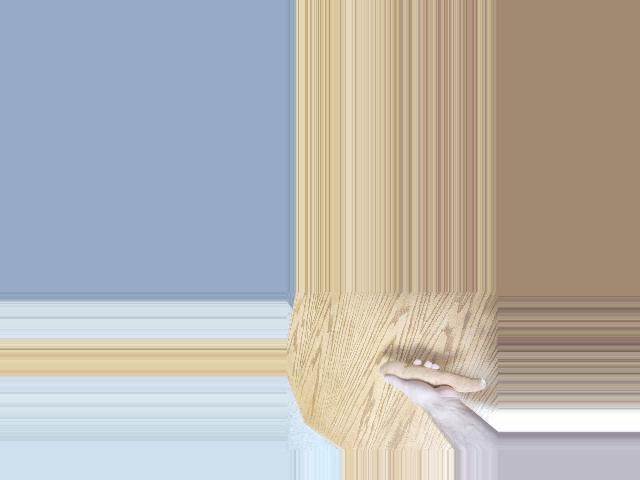sweet_potato: (380, 359, 490, 396)
